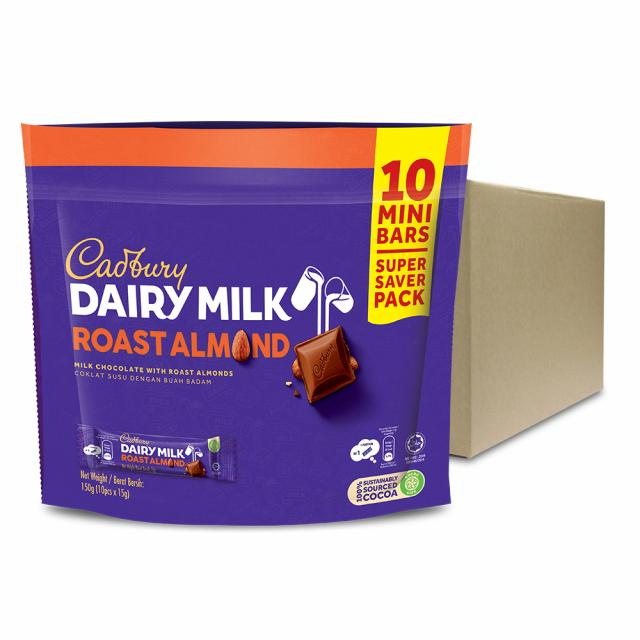cadbury: (21, 123, 469, 514), (77, 423, 236, 485)
